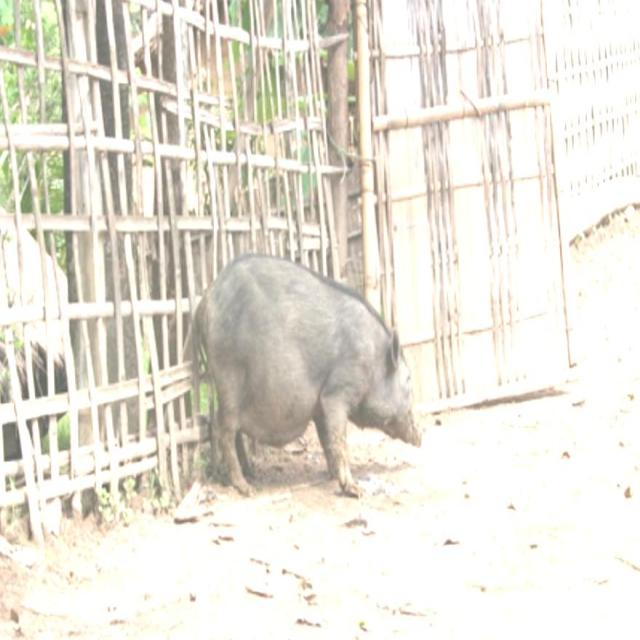pig: (194, 255, 421, 496)
